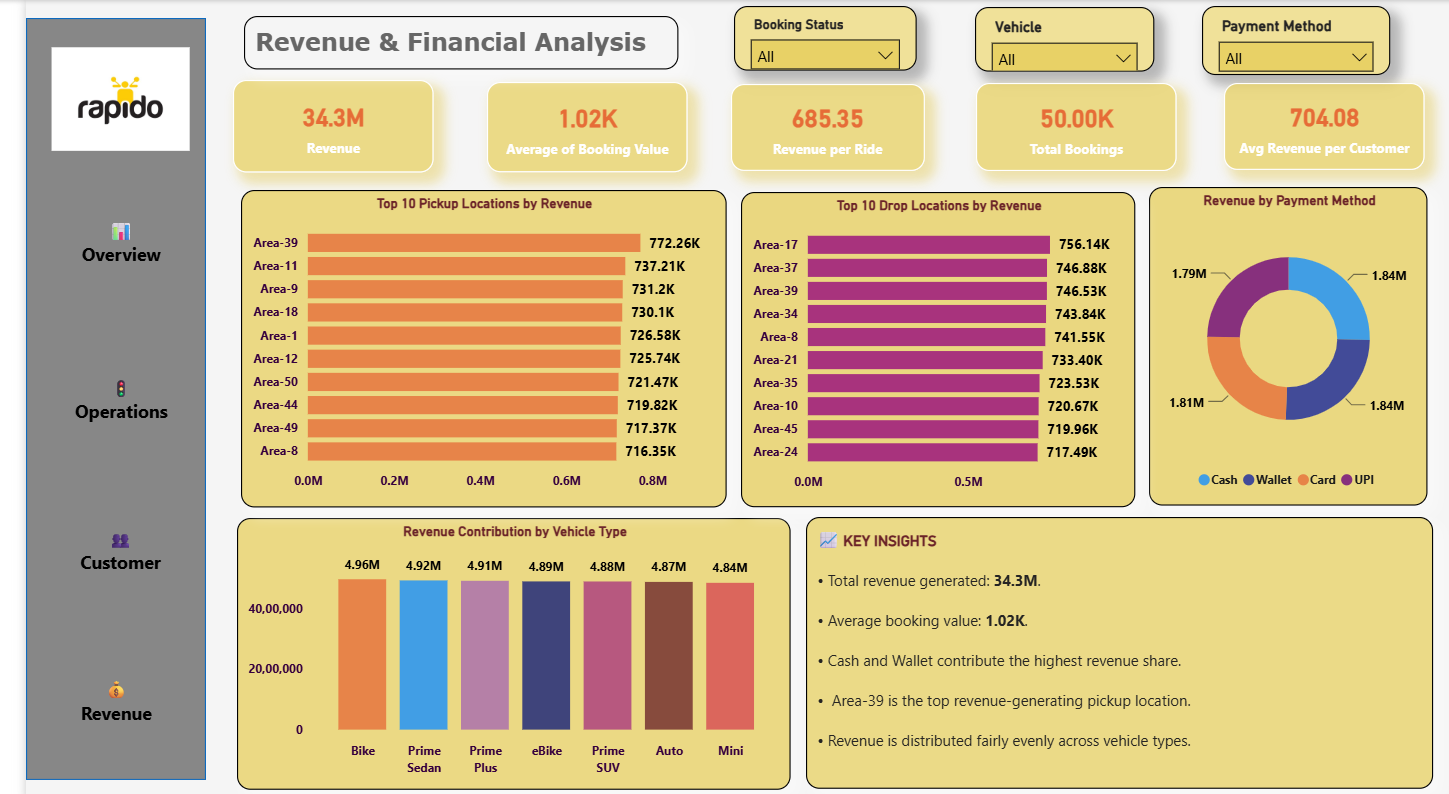

Layout of this report page (visuals, bound fields, positions):
{"tool":"powerbi","page":{"name":"Page 1","canvas":[1280,720],"ordinal":0},"visuals":[{"type":"shape","title":"Sidebar Shape","box":[0,16.5,161.6,684.1],"z":0,"group":"g1"},{"type":"card","title":"Revenue_avgbookingvalue","fields":{"Values":["Avg(Bengaluru Ola.Booking Value)"]},"box":[413.9,73.7,180.4,81.2],"z":0,"group":"g2"},{"type":"group","id":"g1","title":"Navigation_Group","box":[0,16.5,161.6,684.1],"z":1000},{"type":"image","title":"Logo","box":[18,32,133.8,115.8],"z":1000,"group":"g1"},{"type":"card","title":"Revenue_","fields":{"Values":["Bengaluru Ola.Revenue"]},"box":[185.6,72.6,180.4,83.5],"z":1000,"group":"g2"},{"type":"slicer","title":"Paymentmethodslicer","fields":{"Values":["Bengaluru Ola.Payment Method Clean"]},"box":[1055.9,5.4,169.1,61.7],"z":2000},{"type":"card","title":"Revenue_perride","fields":{"Values":["Bengaluru Ola.Revenue per Ride"]},"box":[632.7,76,173.7,77.8],"z":2000,"group":"g2"},{"type":"actionButton","title":"OverviewButton","box":[31.1,171.3,108.3,94.7],"z":2000,"group":"g1"},{"type":"slicer","title":"Bookingstatusslicer","fields":{"Values":["Bengaluru Ola.Booking Status"]},"box":[636,5.4,163.7,57.7],"z":3000},{"type":"card","title":"Revenue_Completedrevenue","fields":{"Values":["Bengaluru Ola.Average Revenue per Customer"]},"box":[1075.4,74.9,180.4,77.8],"z":3000,"group":"g2"},{"type":"actionButton","title":"OperationsButton","box":[31.1,313.4,108.3,89.1],"z":3000,"group":"g1"},{"type":"slicer","title":"Vehicleslicer","fields":{"Values":["Bengaluru Ola.Vehicle Type"]},"box":[852,6.7,161,57.7],"z":4000},{"type":"card","title":"Revenue_Completedrevenue%","fields":{"Values":["Bengaluru Ola.Total Bookings"]},"box":[852.6,74.9,180.4,78.9],"z":4000,"group":"g2"},{"type":"actionButton","title":"CustomerButton","box":[31.1,444.2,107.1,99.2],"z":4000,"group":"g1"},{"type":"clusteredColumnChart","title":"Revenue Contribution by Vehicle Type","fields":{"Category":["Bengaluru Ola.Vehicle Type"],"Y":["Bengaluru Ola.Revenue"]},"box":[189.5,465.3,497.3,244],"z":5000,"group":"g2"},{"type":"actionButton","title":"RevenuButton","box":[31.1,586.3,99.2,86.8],"z":5000,"group":"g1"},{"type":"donutChart","title":"Revenue by Payment Method","fields":{"Category":["Bengaluru Ola.Payment Method Clean"],"Y":["Bengaluru Ola.Revenue"]},"box":[1007.5,168.5,250.5,285.6],"z":6000,"group":"g2"},{"type":"group","id":"g2","title":"Revenue_Group","box":[185.6,14.7,1077.5,694.6],"z":7000},{"type":"clusteredBarChart","title":"Top 10 Pickup Locations by Revenue","fields":{"Category":["Bengaluru Ola.Pickup Location"],"Y":["Bengaluru Ola.Revenue"]},"box":[192.9,170.7,435.5,284.5],"z":7000,"group":"g2"},{"type":"clusteredBarChart","title":"Top 10 Drop Locations by Revenue","fields":{"Category":["Bengaluru Ola.Drop Location"],"Y":["Bengaluru Ola.Revenue"]},"box":[641.9,173,354.3,283.4],"z":8000,"group":"g2"},{"type":"textbox","title":"Revenue_Title","box":[195.3,14.7,390.2,48.5],"z":8500,"group":"g2"},{"type":"textbox","title":"Revenue_Insights","box":[700.4,464.3,562.7,244],"z":9000,"group":"g2"}]}

Visuals, with their boxes in screenshot pixels (x1, y1, x2, y2), scaled from the page's 1280x720 canvas onto the 1449x794 screenshot:
"Sidebar Shape" shape: {"x1": 0, "y1": 18, "x2": 183, "y2": 773}
"Revenue_avgbookingvalue" card: {"x1": 469, "y1": 81, "x2": 673, "y2": 171}
"Navigation_Group" group: {"x1": 0, "y1": 18, "x2": 183, "y2": 773}
"Logo" image: {"x1": 20, "y1": 35, "x2": 172, "y2": 163}
"Revenue_" card: {"x1": 210, "y1": 80, "x2": 414, "y2": 172}
"Paymentmethodslicer" slicer: {"x1": 1195, "y1": 6, "x2": 1387, "y2": 74}
"Revenue_perride" card: {"x1": 716, "y1": 84, "x2": 913, "y2": 170}
"OverviewButton" actionButton: {"x1": 35, "y1": 189, "x2": 158, "y2": 293}
"Bookingstatusslicer" slicer: {"x1": 720, "y1": 6, "x2": 905, "y2": 70}
"Revenue_Completedrevenue" card: {"x1": 1217, "y1": 83, "x2": 1422, "y2": 168}
"OperationsButton" actionButton: {"x1": 35, "y1": 346, "x2": 158, "y2": 444}
"Vehicleslicer" slicer: {"x1": 964, "y1": 7, "x2": 1147, "y2": 71}
"Revenue_Completedrevenue%" card: {"x1": 965, "y1": 83, "x2": 1169, "y2": 170}
"CustomerButton" actionButton: {"x1": 35, "y1": 490, "x2": 156, "y2": 599}
"Revenue Contribution by Vehicle Type" clusteredColumnChart: {"x1": 215, "y1": 513, "x2": 777, "y2": 782}
"RevenuButton" actionButton: {"x1": 35, "y1": 647, "x2": 148, "y2": 742}
"Revenue by Payment Method" donutChart: {"x1": 1141, "y1": 186, "x2": 1424, "y2": 501}
"Revenue_Group" group: {"x1": 210, "y1": 16, "x2": 1430, "y2": 782}
"Top 10 Pickup Locations by Revenue" clusteredBarChart: {"x1": 218, "y1": 188, "x2": 711, "y2": 502}
"Top 10 Drop Locations by Revenue" clusteredBarChart: {"x1": 727, "y1": 191, "x2": 1128, "y2": 503}
"Revenue_Title" textbox: {"x1": 221, "y1": 16, "x2": 663, "y2": 70}
"Revenue_Insights" textbox: {"x1": 793, "y1": 512, "x2": 1430, "y2": 781}
